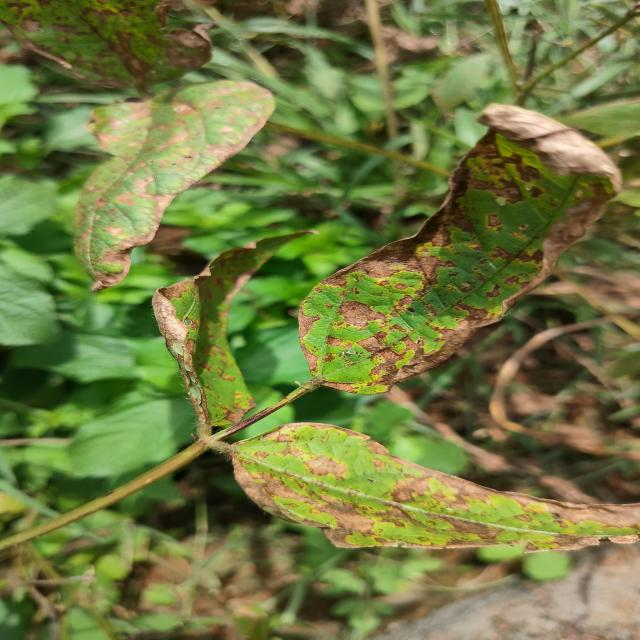Black gram_leaf spot: (298, 104, 622, 394), (231, 423, 640, 552), (72, 80, 274, 290), (151, 231, 308, 440), (0, 0, 210, 94)
